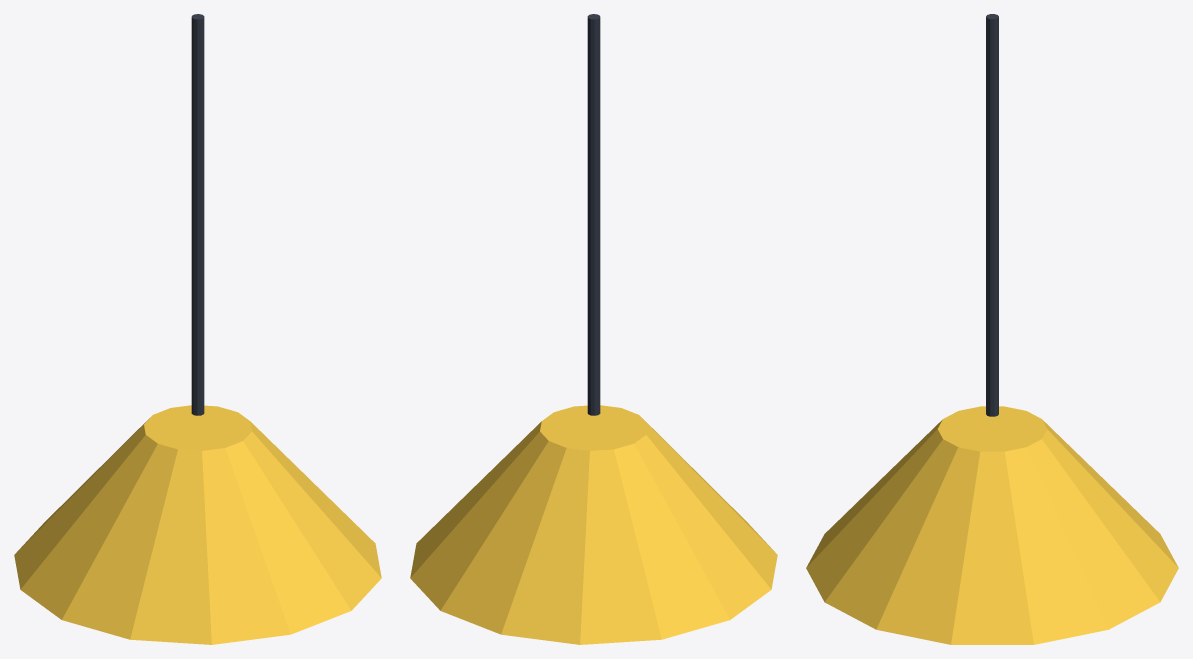
File: Kitchen_Lamp.fbx
3 views of the same model, side by side, from view 1: azimuth 30°, elevation 25°; view 2: azimuth 150°, elevation 25°; view 3: azimuth 270°, elevation 25° (orthographic).
Visible parts, largest first — view 1: Lamp; view 2: Lamp; view 3: Lamp.
Part boxes in pixels (left/top/right/bottom): Lamp: left=14, top=14, right=381, bottom=644; Lamp: left=410, top=14, right=777, bottom=644; Lamp: left=806, top=14, right=1178, bottom=644.
Size of the model in its own units: 0.663 by 1.15 by 0.68.
